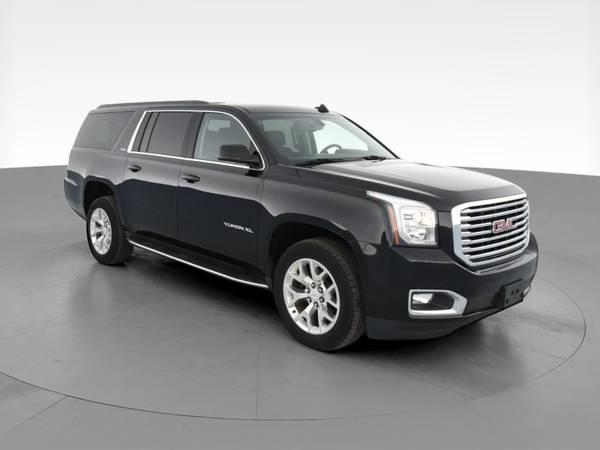Front_Bumper: (354, 237, 543, 344)
Front_Fender: (259, 168, 395, 288)
Front_Right_Door: (179, 160, 267, 279)
Front_Right_Window: (184, 113, 274, 171)
Front_Windshield: (253, 115, 400, 166)
Grille: (437, 193, 529, 271)
Hood: (295, 156, 523, 211)
Rear_Bumper: (63, 176, 87, 219)
Rear_Fender: (66, 107, 134, 193)
Rear_Right_Door: (119, 154, 184, 255)
Rear_Right_Window: (127, 111, 199, 160)
Right_Headlight: (365, 190, 443, 249)
Roof: (110, 100, 332, 169)
Wheel: (276, 235, 369, 348), (84, 195, 133, 267)
